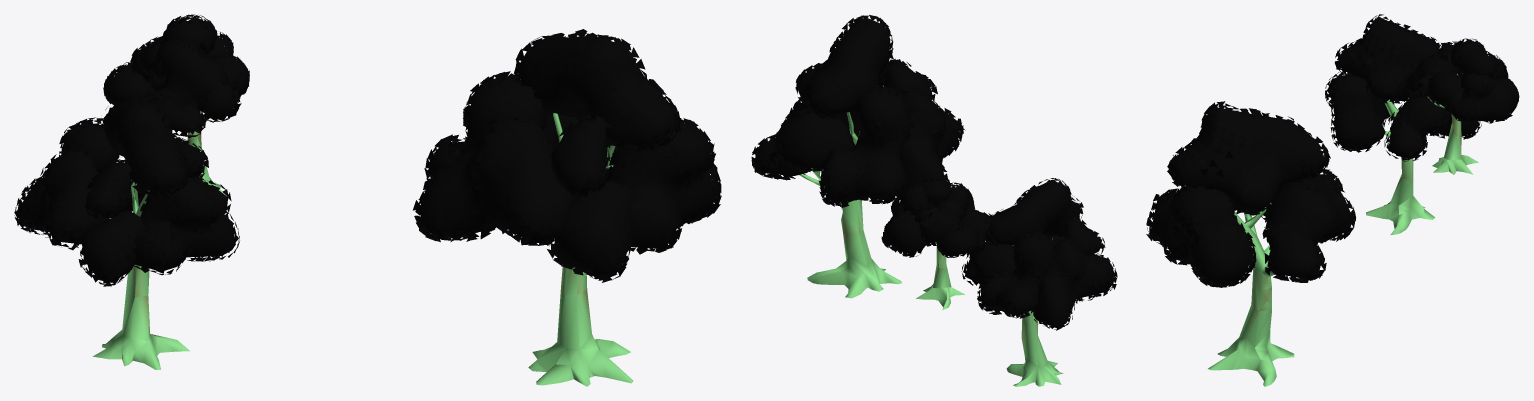
Rendered from SM_ENV_LKNVLD_TreeSet_M_Lod2.gltf.
3 renders of one model, left to right at view 1: azimuth 30°, elevation 25°; view 2: azimuth 150°, elevation 25°; view 3: azimuth 270°, elevation 25°, orthographic. The views are drawn at different scales.
Visible parts, largest first — view 1: SM_ENV_LKNVLD_TreeSet_M_Lod2; view 2: SM_ENV_LKNVLD_TreeSet_M_Lod2; view 3: SM_ENV_LKNVLD_TreeSet_M_Lod2.
Part boxes in pixels (<box>): SM_ENV_LKNVLD_TreeSet_M_Lod2: <box>14,14,721,386</box>; SM_ENV_LKNVLD_TreeSet_M_Lod2: <box>751,15,1117,386</box>; SM_ENV_LKNVLD_TreeSet_M_Lod2: <box>1146,14,1519,386</box>.
Bounding box in the file's own units: 30.59 × 18.39 × 23.68.
